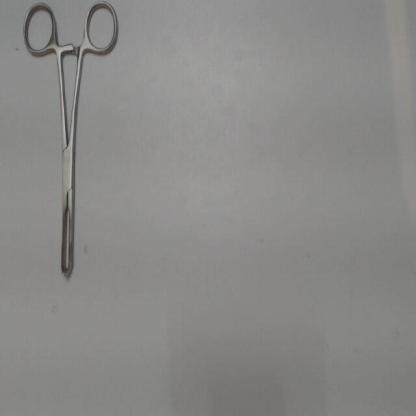Allis Tissue Forceps: (19, 0, 128, 296)
